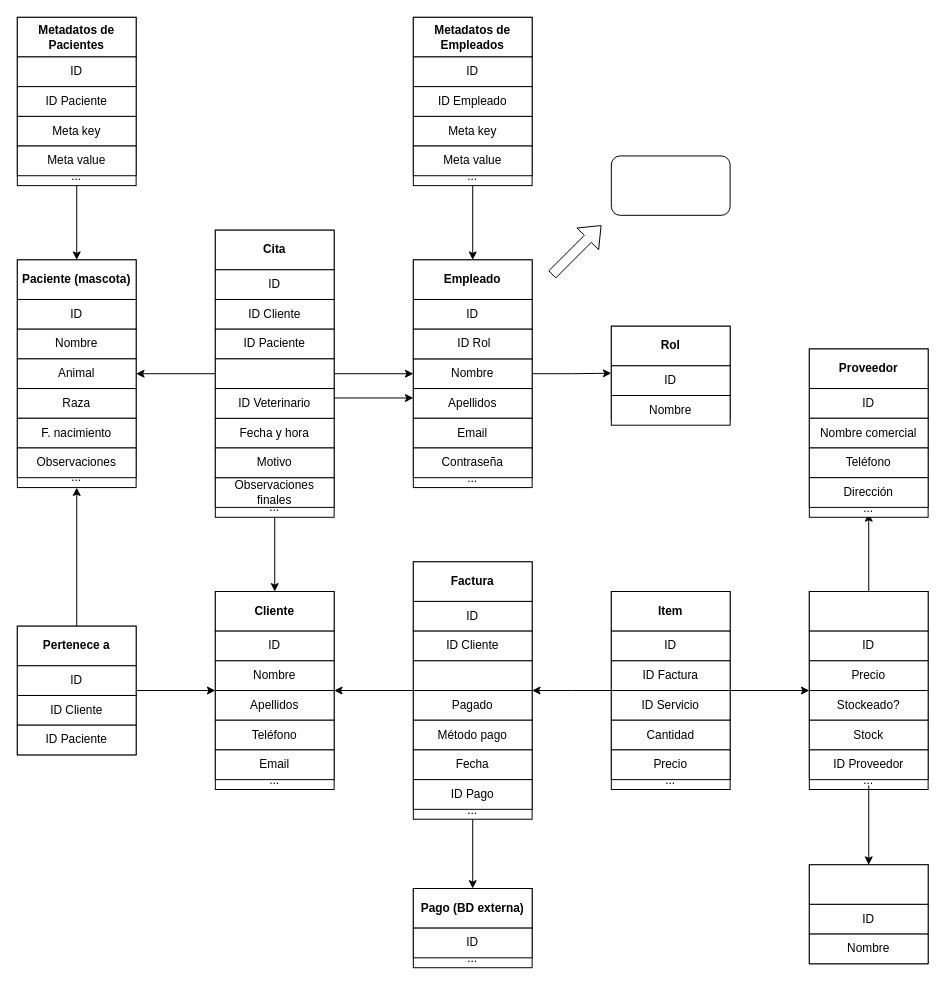
Image size: 945x985. Some labels were removed from this diagram. Here are the shapes that lost their labels. From the top down, the centre of each, then its label:
At (670,185): "Hace log in y Manipula datos".
At (274,373): "ID Recepcionista".
At (868,611): "Servicio / Producto".
At (472,675): "Total €".
At (868,884): "Categoría".
